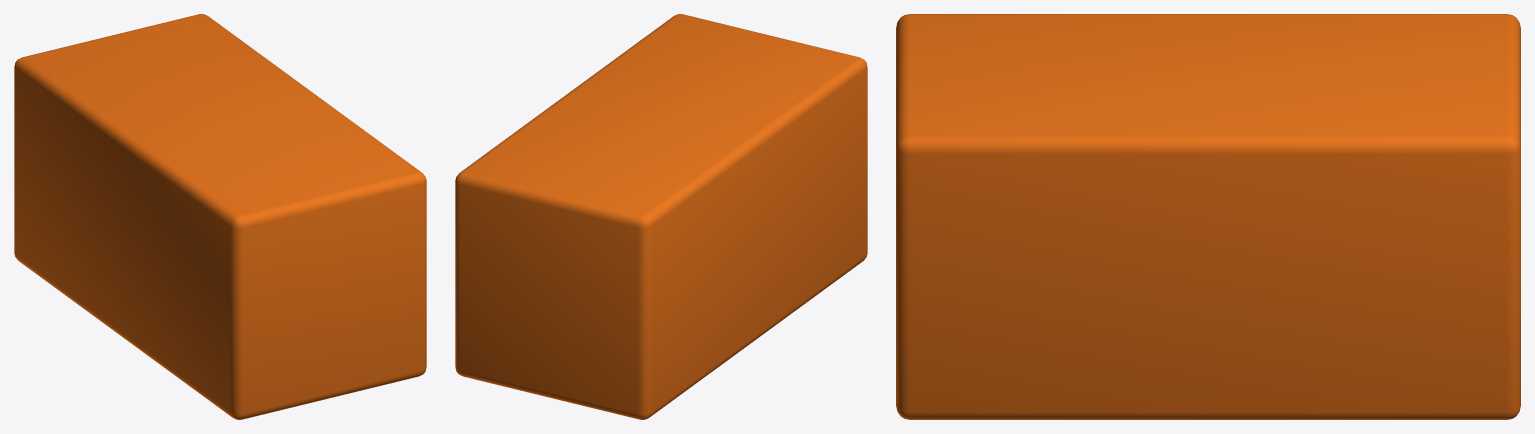
Rendered from Building block-Rectangle.fbx.
3 renders of one model, left to right at view 1: azimuth 30°, elevation 25°; view 2: azimuth 150°, elevation 25°; view 3: azimuth 270°, elevation 25°, orthographic. The views are drawn at different scales.
Visible parts, largest first — view 1: Building block-Rectangle; view 2: Building block-Rectangle; view 3: Building block-Rectangle.
Part boxes in pixels (x1=…): Building block-Rectangle: x1=14, y1=14, x2=426, y2=419; Building block-Rectangle: x1=455, y1=14, x2=867, y2=419; Building block-Rectangle: x1=896, y1=14, x2=1520, y2=419.
Size of the model in its own units: 200 by 200 by 400.
